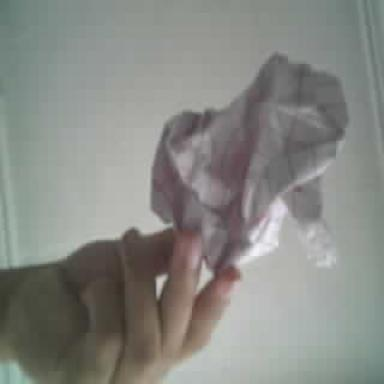paper: (152, 54, 347, 269)
